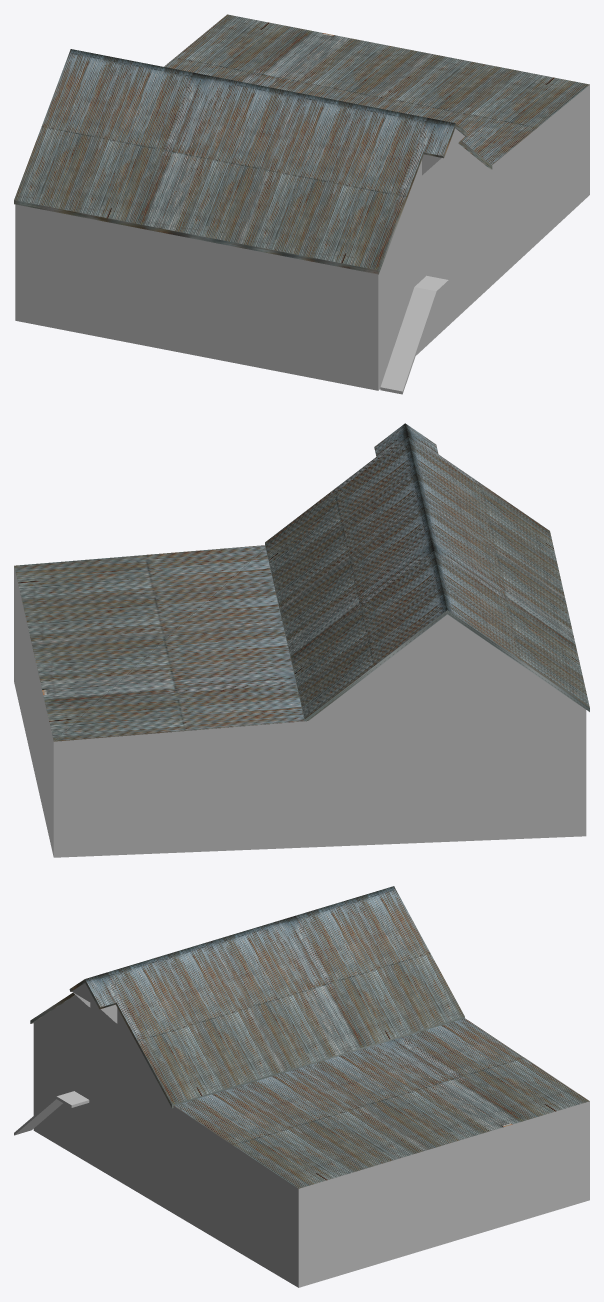
Rendered from SM_GenericBuilding_04.fbx.
3 views of the same model, one above another, from view 1: azimuth 30°, elevation 25°; view 2: azimuth 150°, elevation 25°; view 3: azimuth 270°, elevation 25° (orthographic). The views are drawn at different scales.
Visible parts, largest first — view 1: SM_GenericBuilding_04; view 2: SM_GenericBuilding_04; view 3: SM_GenericBuilding_04.
Boxes of the visible parts, x1,y1,x2,y2 form: SM_GenericBuilding_04: [14, 14, 589, 394]; SM_GenericBuilding_04: [14, 423, 589, 857]; SM_GenericBuilding_04: [14, 886, 589, 1287].
Bounding box in the file's own units: 1154 × 433 × 1141.
